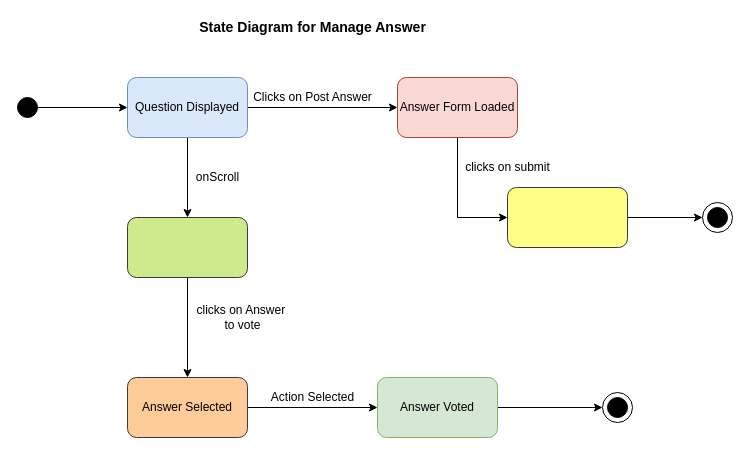
This 750x455 diagram has some shape labels left out. Here are the shapes that lost their labels. From the top down, the centre of each, then its label:
At point (567, 217): "Answer Saved".
At point (187, 247): "Answer List Displayed".
